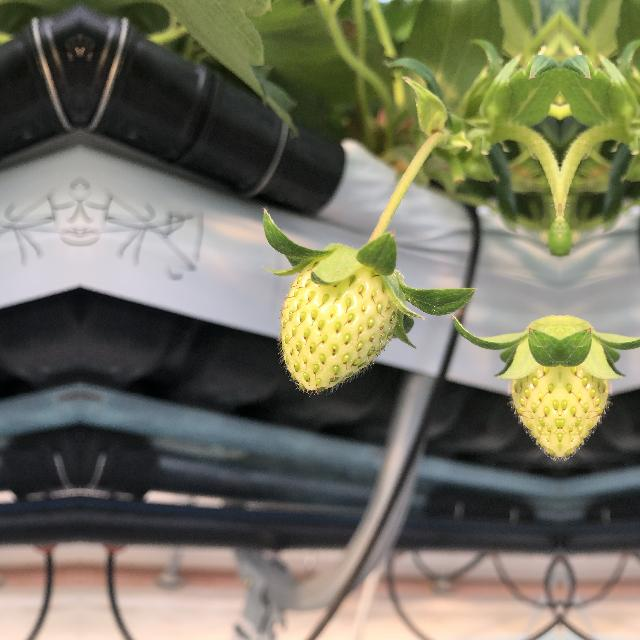Health_25: (282, 242, 404, 390), (504, 305, 560, 471), (560, 305, 616, 471)
